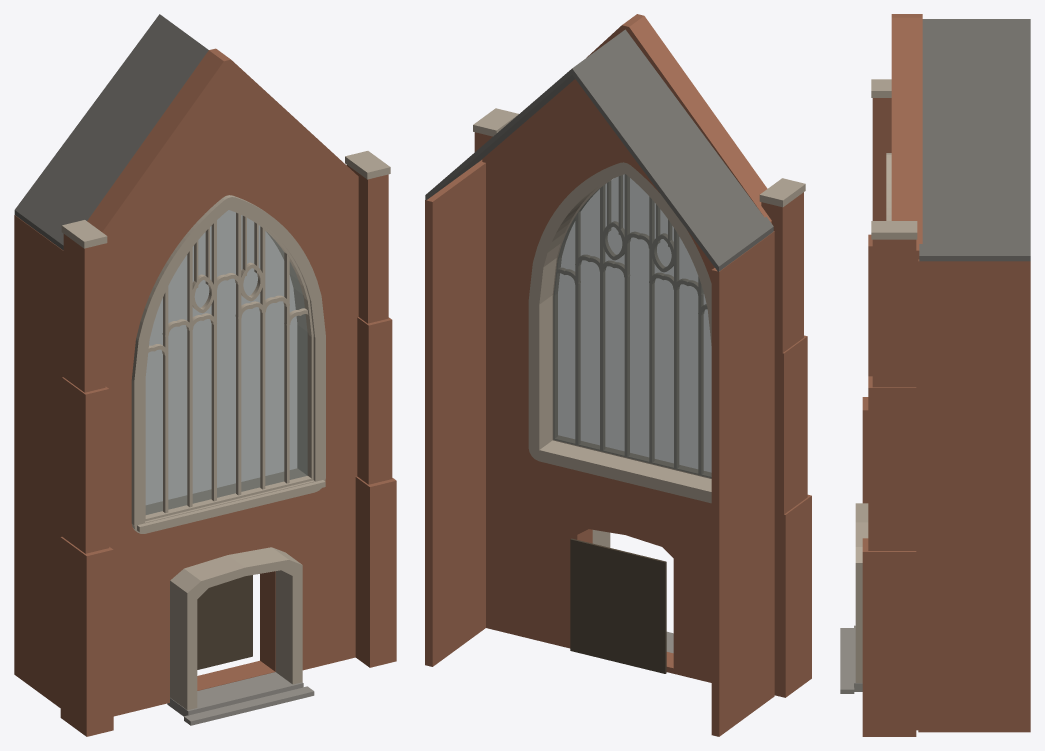
File: full-source.glb
The picture shows the model from 3 angles, left to right: view 1: azimuth 30°, elevation 25°; view 2: azimuth 150°, elevation 25°; view 3: azimuth 270°, elevation 25°; orthographic projection. The views are drawn at different scales.
Visible parts, largest first — view 1: 国际礼拜堂临衡山路七扇尖窗山墙; view 2: 国际礼拜堂临衡山路七扇尖窗山墙; view 3: 国际礼拜堂临衡山路七扇尖窗山墙.
Boxes of the visible parts, x1=… form: 国际礼拜堂临衡山路七扇尖窗山墙: x1=14, y1=14, x2=396, y2=736; 国际礼拜堂临衡山路七扇尖窗山墙: x1=425, y1=14, x2=811, y2=736; 国际礼拜堂临衡山路七扇尖窗山墙: x1=840, y1=14, x2=1030, y2=736.
Size of the model in its own units: 9.03 by 17.59 by 4.69.
